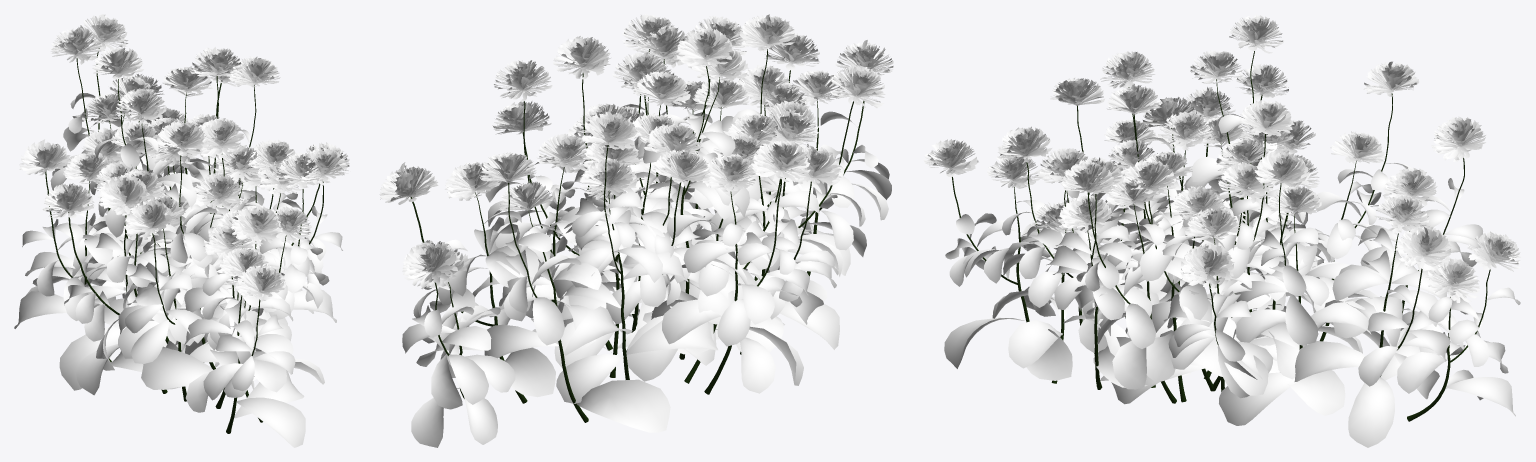
File: Bellis Perennis set.fbx
The picture shows the model from 3 angles, left to right: view 1: azimuth 30°, elevation 25°; view 2: azimuth 150°, elevation 25°; view 3: azimuth 270°, elevation 25°; orthographic projection. The views are drawn at different scales.
Parts seen in each view (by area): view 1: Leaf1_BellisPerennis_Mat.003; view 2: Leaf1_BellisPerennis_Mat.003; view 3: Leaf1_BellisPerennis_Mat.003.
Boxes of the visible parts, x1,y1,x2,y2 form: Leaf1_BellisPerennis_Mat.003: [14, 14, 349, 447]; Leaf1_BellisPerennis_Mat.003: [379, 14, 893, 447]; Leaf1_BellisPerennis_Mat.003: [923, 14, 1520, 447].
Bounding box in the file's own units: 121 × 121 × 193.
